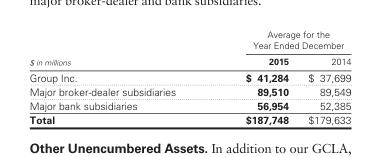table: (28, 28, 350, 125)
table column: (28, 28, 210, 125), (210, 28, 297, 125), (297, 28, 350, 125)
table column header: (28, 28, 350, 68)
table row: (28, 28, 350, 52), (28, 52, 350, 68), (28, 68, 350, 84), (28, 84, 350, 98), (28, 98, 350, 112), (28, 112, 350, 125)
table spanning cell: (28, 28, 210, 68), (210, 28, 350, 52)
